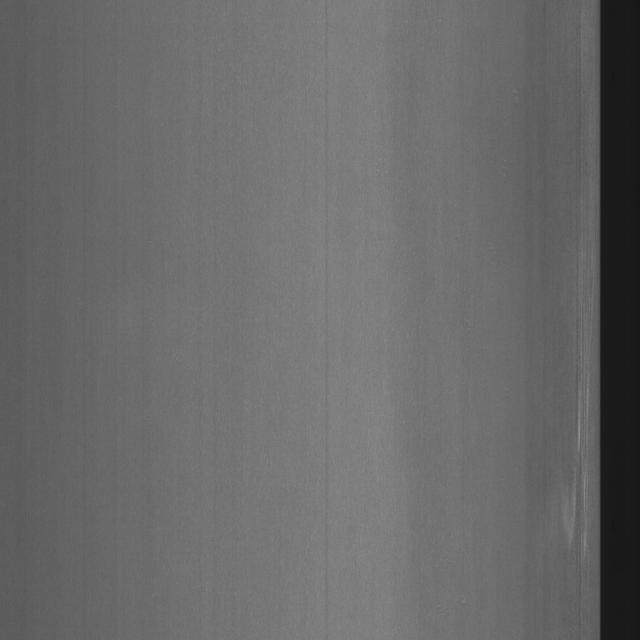inclusion: (557, 25, 598, 577)
